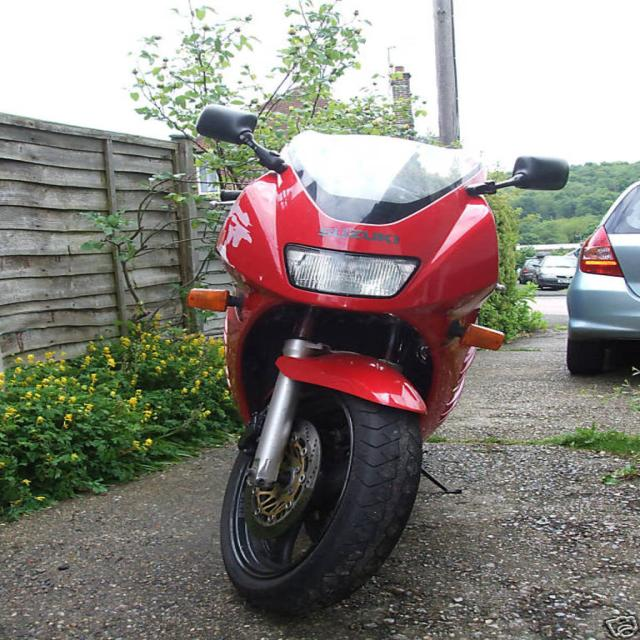Motorbikes: (144, 102, 569, 628)
Passenger Car: (563, 180, 640, 378)
